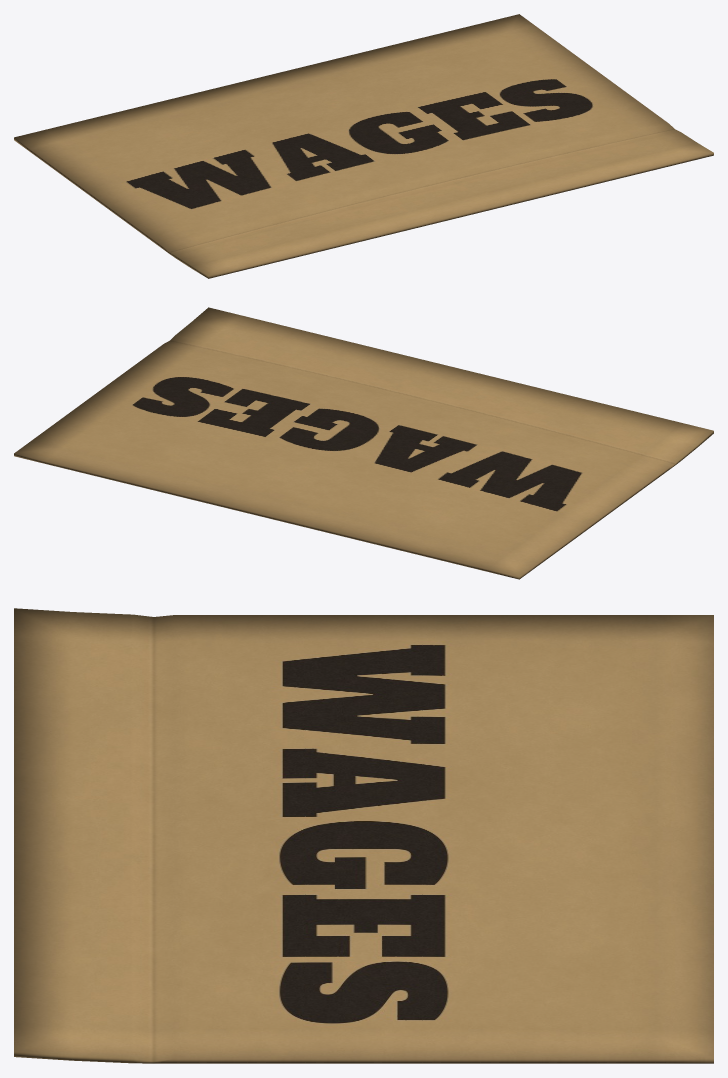
The model's file is wages-envelope.glb.
The picture shows the model from 3 angles, top to bottom: view 1: azimuth 30°, elevation 25°; view 2: azimuth 150°, elevation 25°; view 3: azimuth 270°, elevation 25°; orthographic projection. The views are drawn at different scales.
Visible parts, largest first — view 1: wages-envelope-paper; view 2: wages-envelope-paper; view 3: wages-envelope-paper.
Part boxes in pixels (box(x1,y1,x2,y2)): wages-envelope-paper: box(14, 14, 713, 278); wages-envelope-paper: box(14, 307, 713, 579); wages-envelope-paper: box(14, 608, 713, 1063).
Size of the model in its own units: 0.114 by 0.00216 by 0.076.
2 materials, 2 textured.
